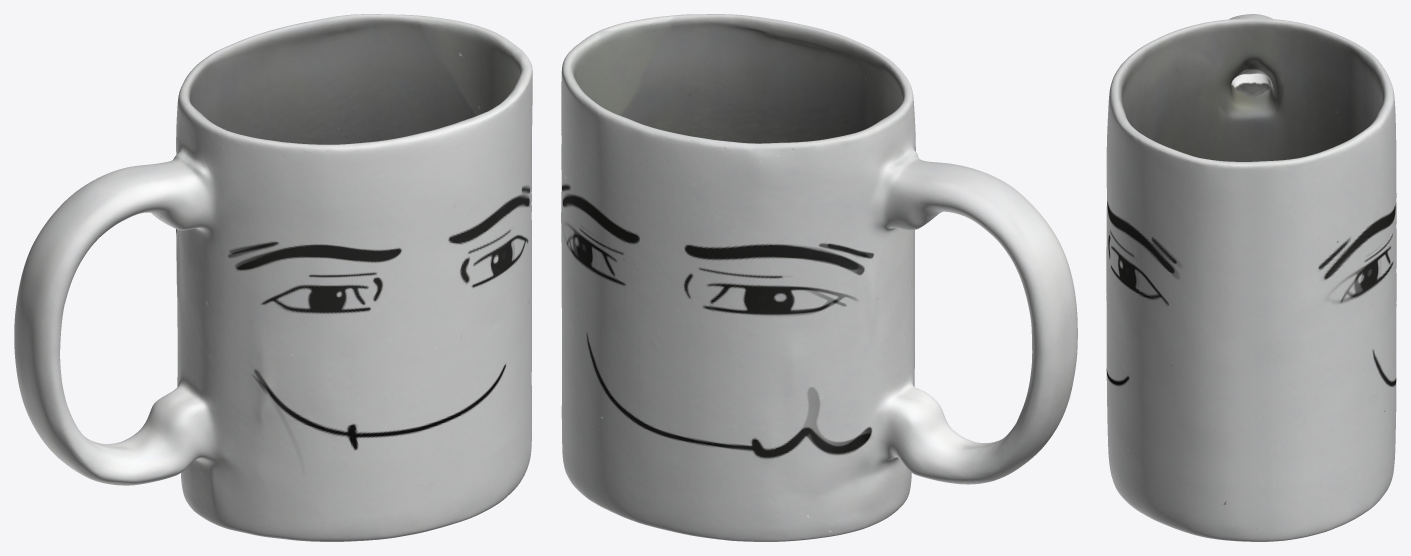
File: Meshy_AI_taza_de_cafe_sigma_0323204006_texture.glb
3 views of the same model, side by side, from view 1: azimuth 30°, elevation 25°; view 2: azimuth 150°, elevation 25°; view 3: azimuth 270°, elevation 25° (orthographic). The views are drawn at different scales.
Size of the model in its own units: 2 by 1.56 by 1.08.
1 material, 1 textured.
